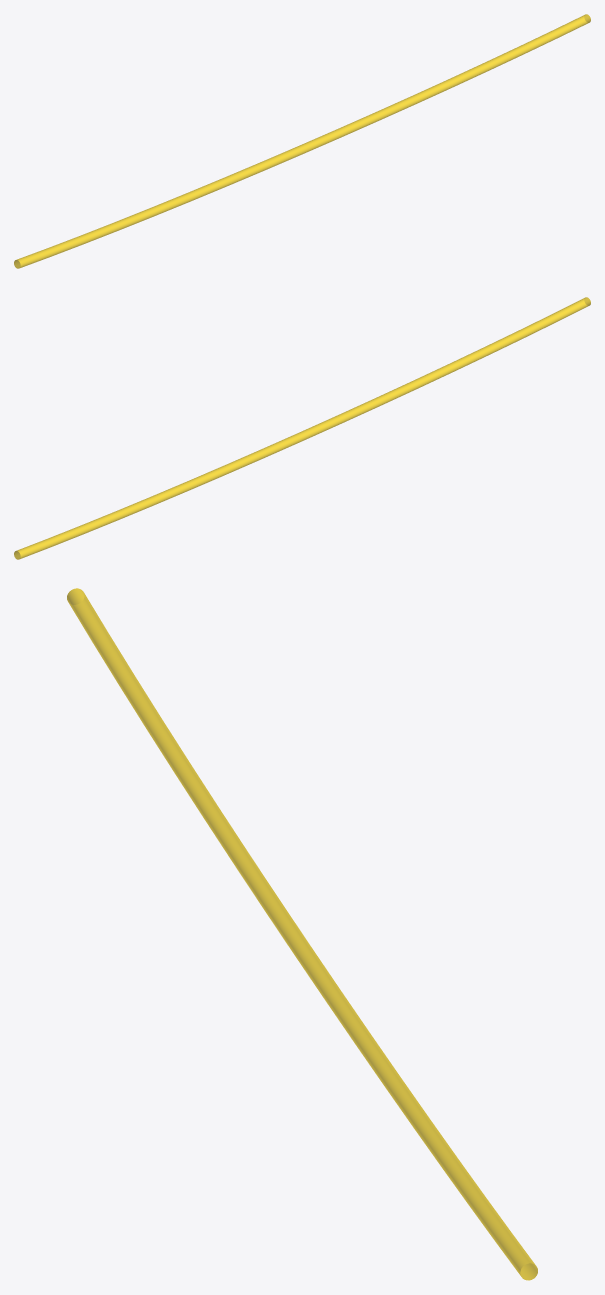
Rendered from Event_31209032_track_43.fbx.
3 views of the same model, one above another, from view 1: azimuth 30°, elevation 25°; view 2: azimuth 210°, elevation 25°; view 3: azimuth 270°, elevation 25° (orthographic). The views are drawn at different scales.
Visible parts, largest first — view 1: Model; view 2: Model; view 3: Model.
Part boxes in pixels (x1,y1,x2,y2): Model: [14, 14, 590, 268]; Model: [14, 297, 590, 559]; Model: [67, 588, 537, 1280].
Size of the model in its own units: 3.42 by 0.0873 by 1.02.
